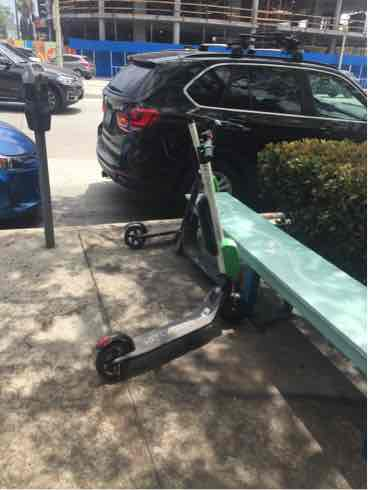scooter: (90, 113, 245, 386)
